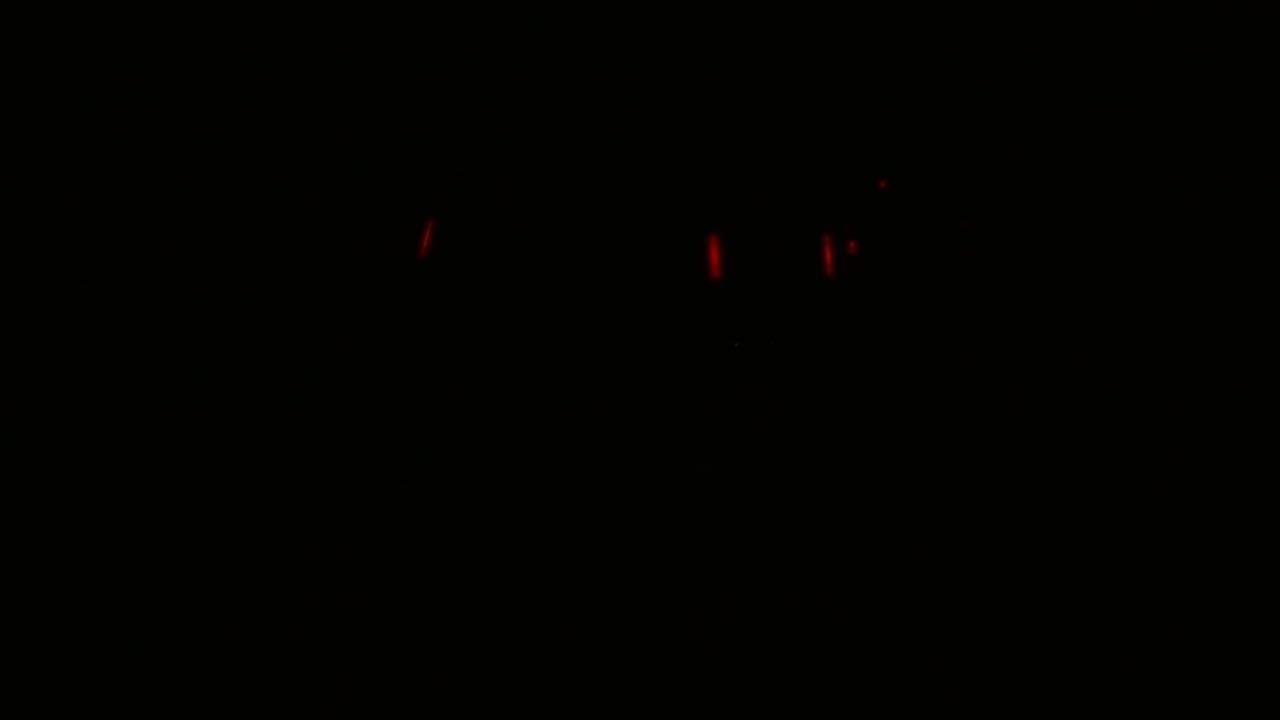pair1: (697, 229, 843, 283)
